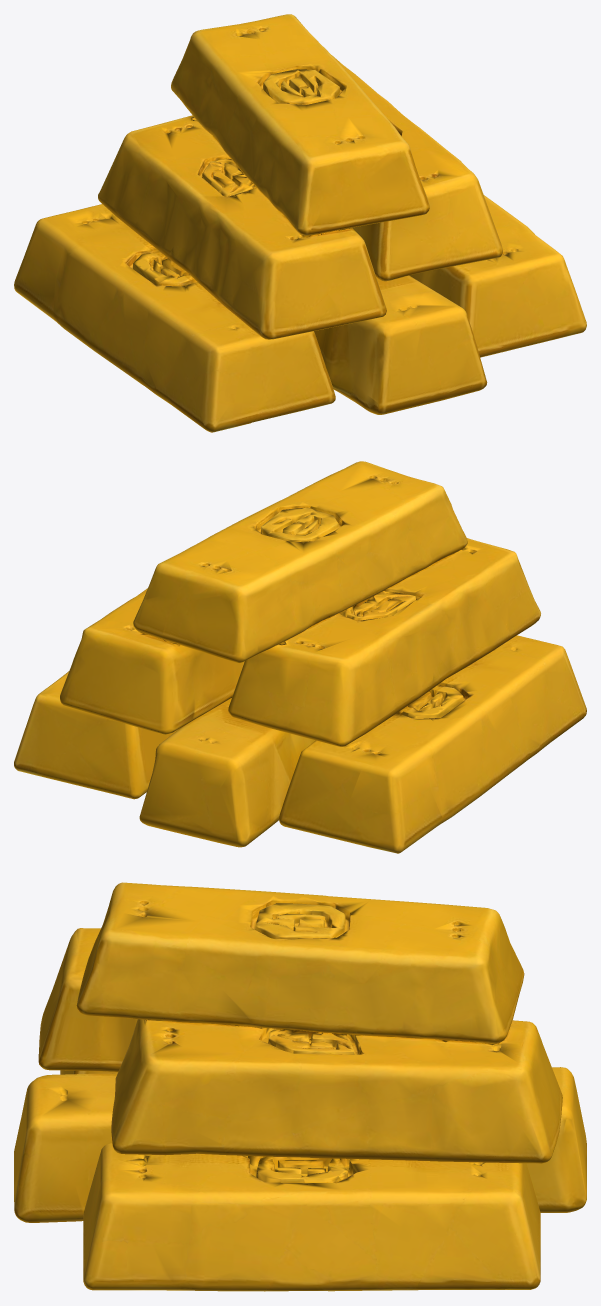
Rendered from gold_bars.glb.
The picture shows the model from 3 angles, top to bottom: view 1: azimuth 30°, elevation 25°; view 2: azimuth 150°, elevation 25°; view 3: azimuth 270°, elevation 25°; orthographic projection. The views are drawn at different scales.
Size of the model in its own units: 1.75 by 0.9912 by 1.9.
Materials: 1 (1 with a texture image).
